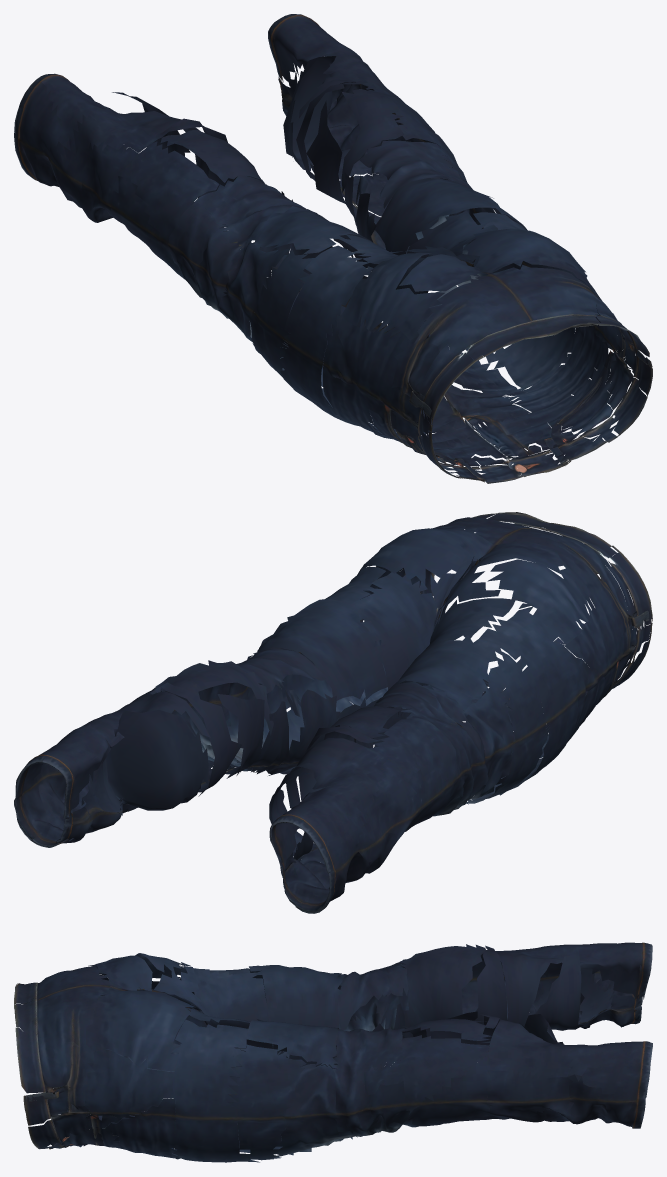
Rendered from adult-base-01.glb.
The picture shows the model from 3 angles, top to bottom: view 1: azimuth 30°, elevation 25°; view 2: azimuth 150°, elevation 25°; view 3: azimuth 270°, elevation 25°; orthographic projection. The views are drawn at different scales.
Parts seen in each view (by area): view 1: geometry_0; view 2: geometry_0; view 3: geometry_0.
Part boxes in pixels (x1,y1,x2,y2): geometry_0: (14, 14, 652, 483); geometry_0: (14, 512, 652, 913); geometry_0: (14, 942, 652, 1162).
Bounding box in the file's own units: 0.00462 × 0.00269 × 0.0097.
Materials: 1 (1 with a texture image).
